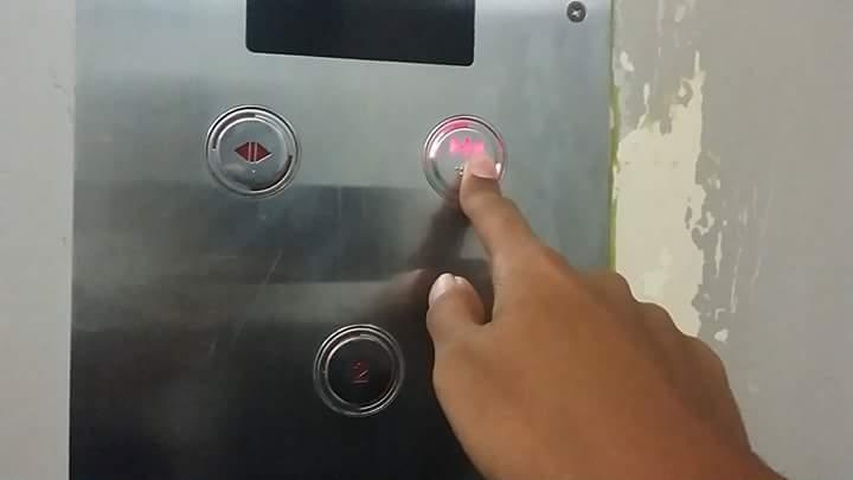2: (313, 322, 407, 420)
close: (422, 113, 507, 204)
open: (206, 104, 299, 195)
